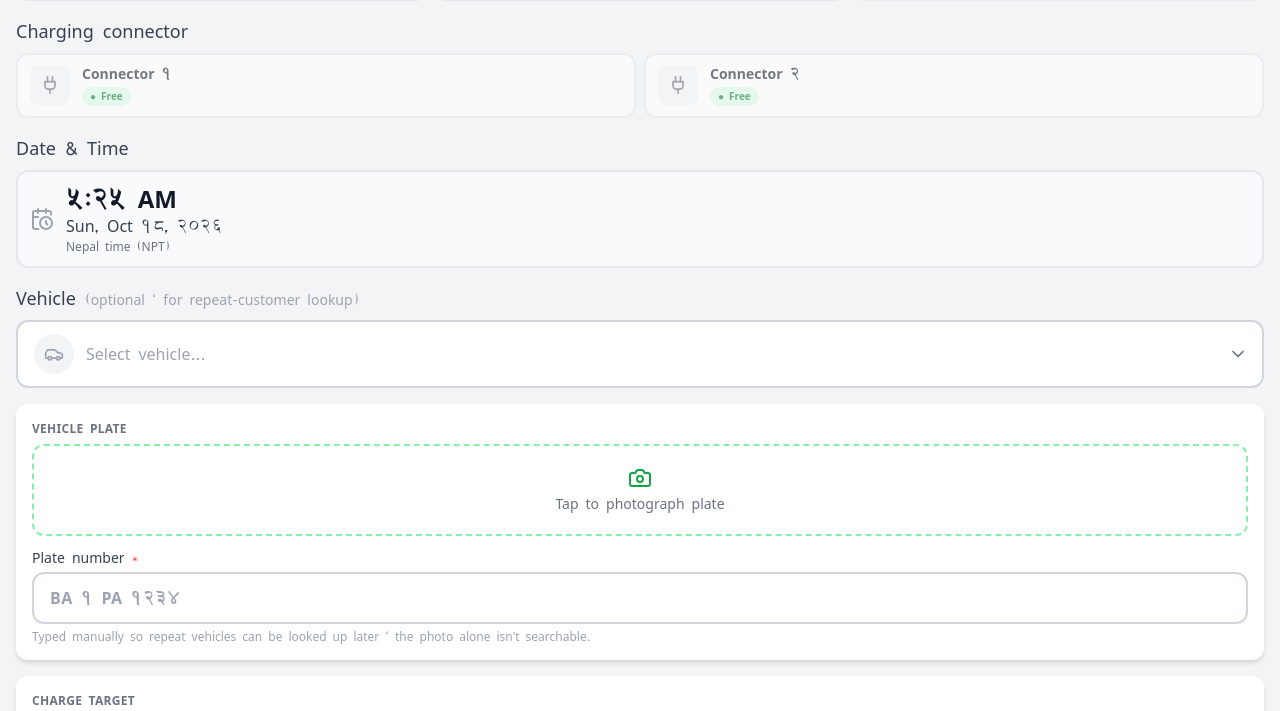
it: EVEntryPage › start form fields › lists the real vehicles from the API with their price when the field is opened
(page scrolled)
What coordinates should you click on to do the following:
click the button named "Vehicle (optional"
I would click on:
 (54, 354)
Its box is [16, 320, 1264, 388].
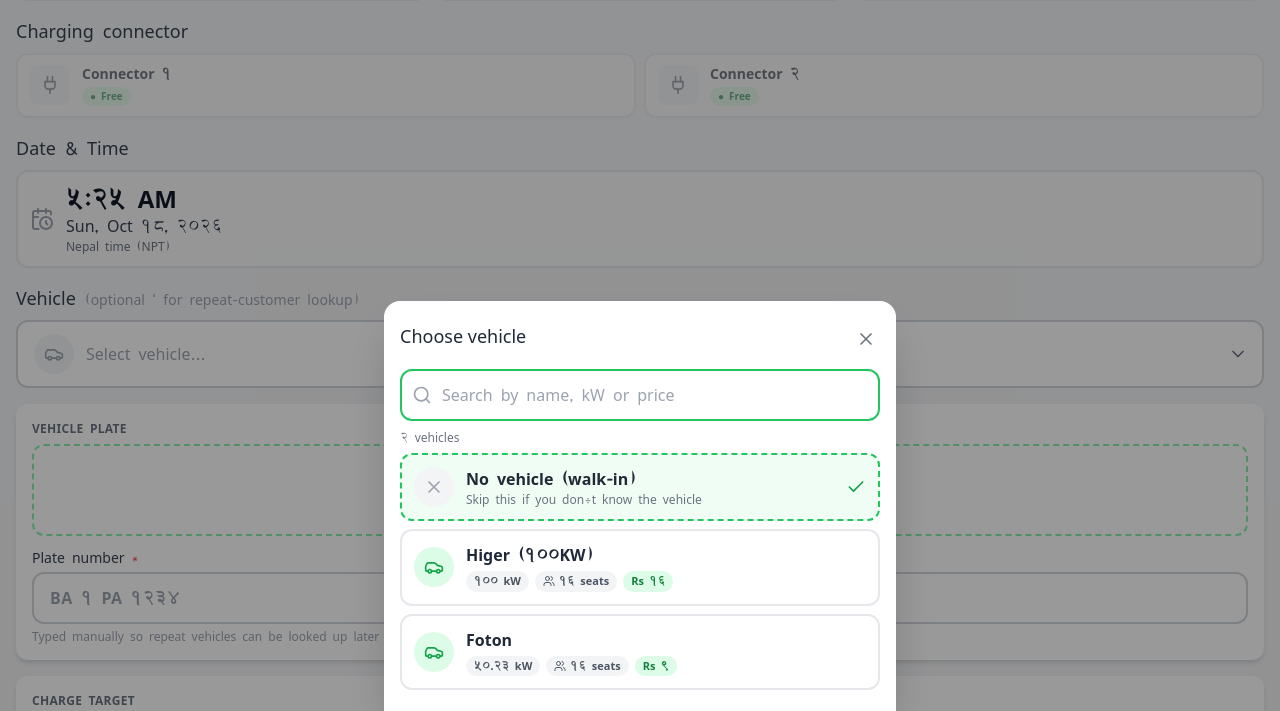
Check: the option "Higer (100KW) 100 kW 16 seats Rs 16" is shown, box [400, 529, 880, 606]
Check: the option "Foton 50.23 kW 16 seats Rs 9" is shown, box [400, 614, 880, 690]
Check: the option "No vehicle (walk-in) Skip this if you don’t know the vehicle" is shown, box [400, 453, 880, 521]
